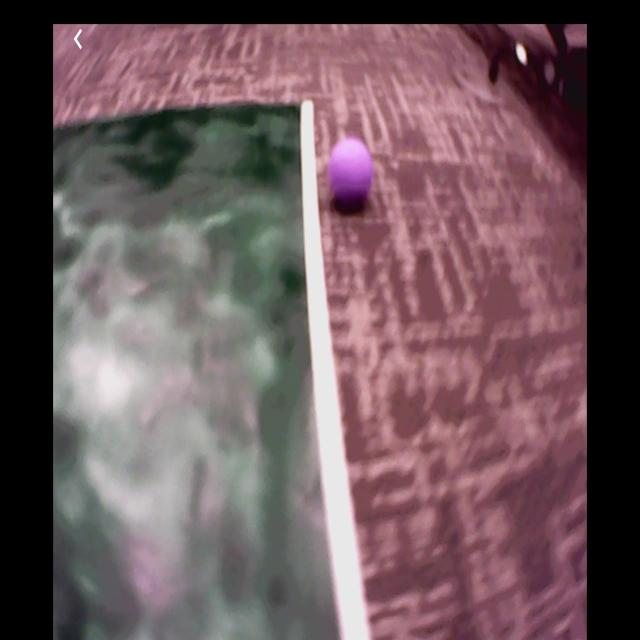ball: (330, 140, 373, 203)
